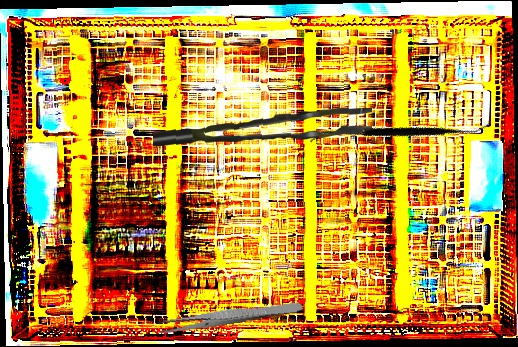Dressing Forceps: (156, 297, 304, 336)
Spatula Surgical: (308, 51, 491, 216)
Tissue Forceps: (152, 100, 373, 154)
